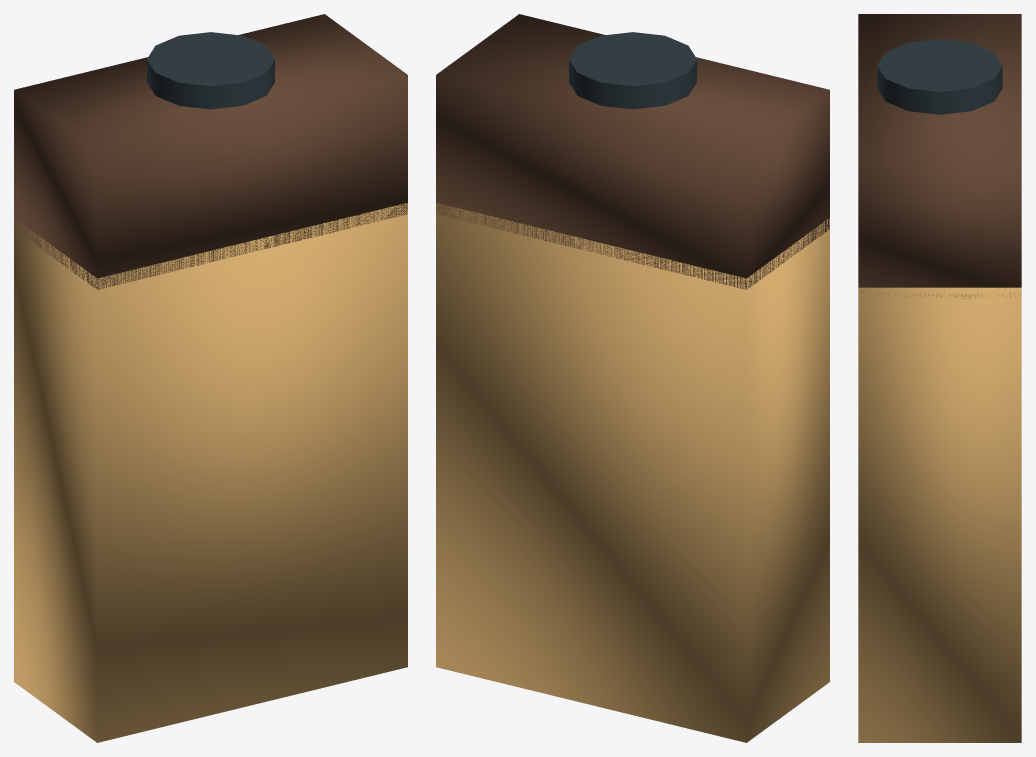
Rendered from lighter.glb.
The picture shows the model from 3 angles, left to right: view 1: azimuth 30°, elevation 25°; view 2: azimuth 150°, elevation 25°; view 3: azimuth 270°, elevation 25°; orthographic projection. The views are drawn at different scales.
Parts seen in each view (by area): view 1: prop_lighter; view 2: prop_lighter; view 3: prop_lighter.
Part boxes in pixels (bbox=[...]): prop_lighter: bbox=[14, 14, 407, 742]; prop_lighter: bbox=[436, 14, 829, 742]; prop_lighter: bbox=[858, 14, 1021, 742].
Size of the model in its own units: 0.028 by 0.053 by 0.013.
